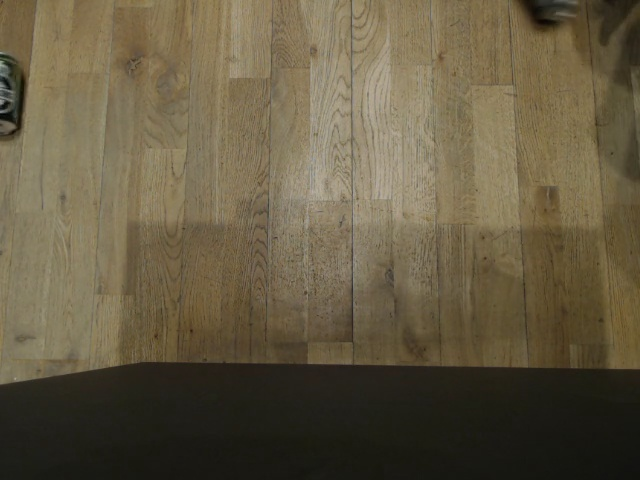beer: (0, 48, 26, 141)
